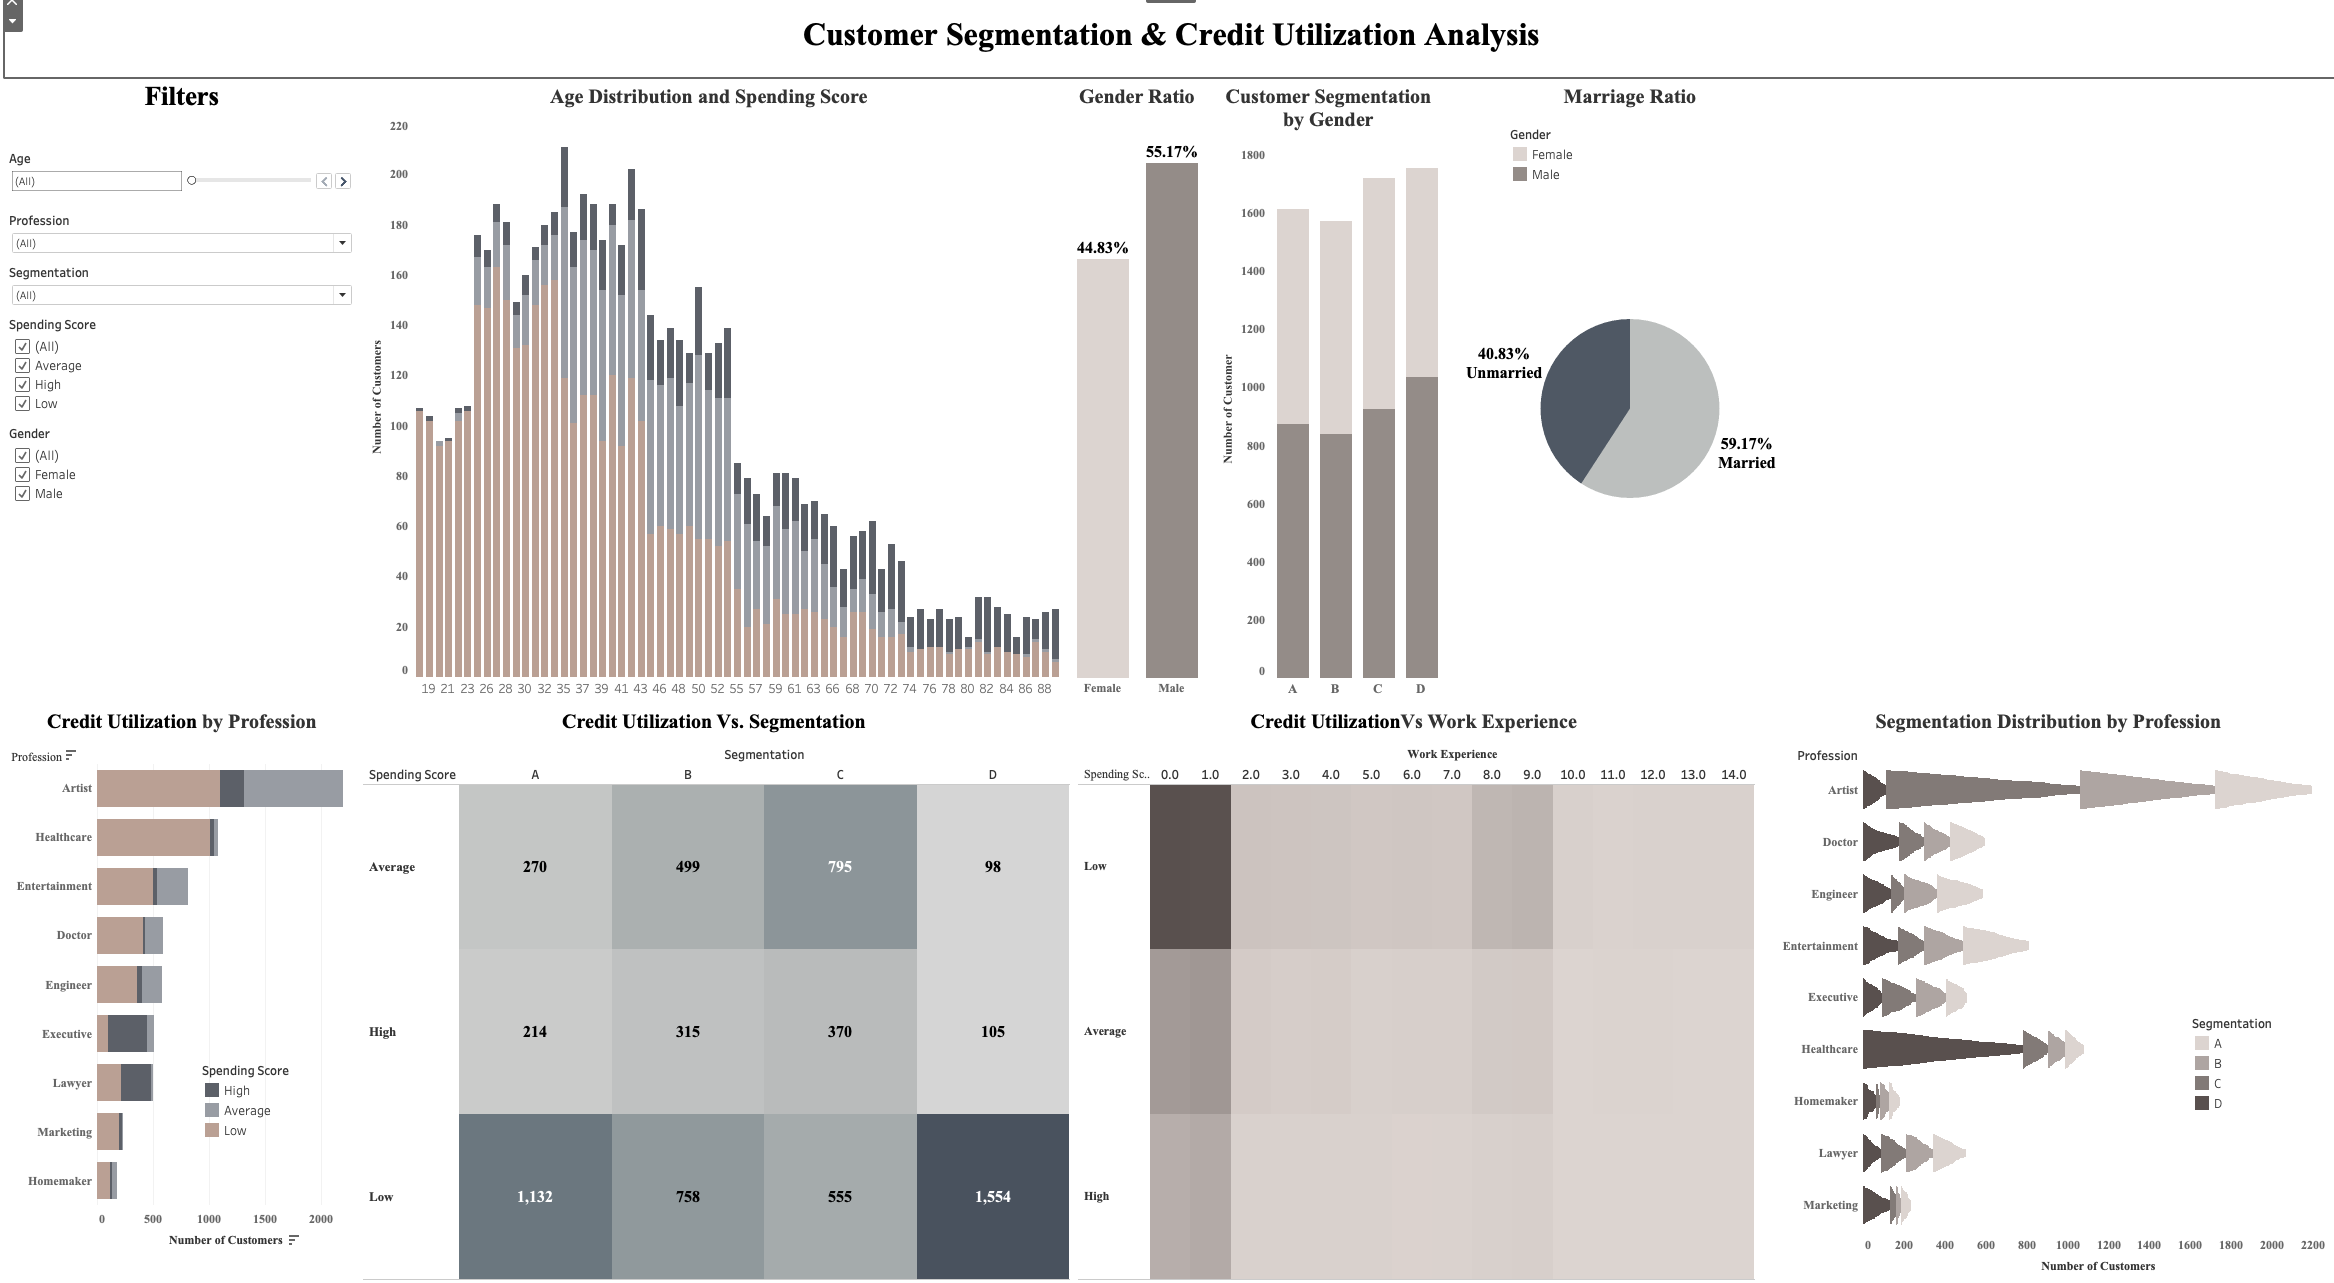

What the dashboard file says about the page in this screenshot:
{"tool":"tableau","page":{"name":"Dashboard 1","canvas":[1000,1000],"units":"permille","ordinal":0},"visuals":[{"type":"text","box":[4.7,9.3,990.6,64.8]},{"type":"text","box":[4.7,74.1,150.4,44]},{"type":"worksheet","title":"1.3 Age Distribution and Spending Score ","mark":"Automatic","rows":["Customer!segmentation_8659F585FC28473984D7BC33D43EBC14"],"cols":["Age"],"box":[155.1,74.1,402,474.5]},{"type":"worksheet","title":"1.1 Gender Ratio","mark":"Automatic","rows":["Customer!segmentation_8659F585FC28473984D7BC33D43EBC14"],"cols":["Gender"],"box":[557.1,74.1,85.4,474.5]},{"type":"worksheet","title":"2.1 customer by segmentaion and gender","mark":"Automatic","rows":["Customer!segmentation_8659F585FC28473984D7BC33D43EBC14"],"cols":["Segmentation"],"box":[642.5,74.1,138.7,474.5]},{"type":"worksheet","title":"1.2 Married Vs Unmarried","mark":"Pie","box":[781.2,74.1,214.2,474.5]},{"type":"legend","title":"1.1 Gender Ratio","param":"[federated.1sno4z51022sau11hy0up1l21c05].[none:Gender:nk]","box":[644.2,108.8,50.3,68.3]},{"type":"filter","title":"1.3 Age Distribution and Spending Score ","param":"[federated.1sno4z51022sau11hy0up1l21c05].[none:Age:nk]","box":[4.7,126.5,150.4,71.8]},{"type":"filter","title":"2.2 Segmentation distribution by profession","param":"[federated.1sno4z51022sau11hy0up1l21c05].[none:Profession:nk]","box":[4.7,198.2,150.4,60.2]},{"type":"filter","title":"2.1 customer by segmentaion and gender","param":"[federated.1sno4z51022sau11hy0up1l21c05].[none:Segmentation:nk]","box":[4.7,258.4,150.4,60.2]},{"type":"filter","title":"3.1 Spending vs Segmentation ","param":"[federated.1sno4z51022sau11hy0up1l21c05].[none:Spending_Score:nk]","box":[4.7,318.6,150.4,126.2]},{"type":"filter","title":"1.1 Gender Ratio","param":"[federated.1sno4z51022sau11hy0up1l21c05].[none:Gender:nk]","box":[4.7,444.8,150.4,103]},{"type":"worksheet","title":"3.2 Spending score by profession ","mark":"Automatic","rows":["Profession"],"cols":["Customer!segmentation_8659F585FC28473984D7BC33D43EBC14"],"box":[4.7,548.6,150.4,442.1]},{"type":"worksheet","title":"3.1 Spending vs Segmentation ","mark":"Square","rows":["Spending_Score"],"cols":["Segmentation"],"box":[155.1,548.6,303.7,442.1]},{"type":"worksheet","title":"3.3 Spending Score Vs Work Experience ","mark":"Automatic","rows":["Spending_Score"],"cols":["Work_Experience"],"box":[458.8,548.6,290.8,442.1]},{"type":"worksheet","title":"2.2 Segmentation distribution by profession","mark":"Automatic","rows":["Profession"],"cols":["Customer!segmentation_8659F585FC28473984D7BC33D43EBC14"],"box":[749.6,548.6,245.8,442.1]},{"type":"legend","title":"2.2 Segmentation distribution by profession","param":"[federated.1sno4z51022sau11hy0up1l21c05].[none:Segmentation:nk]","box":[934.5,788.2,55,114.6]},{"type":"legend","title":"1.3 Age Distribution and Spending Score ","param":"[federated.1sno4z51022sau11hy0up1l21c05].[none:Spending_Score:nk]","box":[87.2,824.1,83.7,100.7]}]}

Visuals, with their boxes on the dashboard's canvas, which has no fixed pixel size, in thousandths of its width and height (x1, y1, x2, y2). These are canvas units, not pixel positions in the 2334x1283 screenshot, which may show the page scaled, cropped or inside an application window:
text: rect(5, 9, 995, 74)
text: rect(5, 74, 155, 118)
"1.3 Age Distribution and Spending Score " worksheet: rect(155, 74, 557, 549)
"1.1 Gender Ratio" worksheet: rect(557, 74, 642, 549)
"2.1 customer by segmentaion and gender" worksheet: rect(642, 74, 781, 549)
"1.2 Married Vs Unmarried" worksheet (Pie marks): rect(781, 74, 995, 549)
"1.1 Gender Ratio" legend: rect(644, 109, 694, 177)
"1.3 Age Distribution and Spending Score " filter: rect(5, 126, 155, 198)
"2.2 Segmentation distribution by profession" filter: rect(5, 198, 155, 258)
"2.1 customer by segmentaion and gender" filter: rect(5, 258, 155, 319)
"3.1 Spending vs Segmentation " filter: rect(5, 319, 155, 445)
"1.1 Gender Ratio" filter: rect(5, 445, 155, 548)
"3.2 Spending score by profession " worksheet: rect(5, 549, 155, 991)
"3.1 Spending vs Segmentation " worksheet (Square marks): rect(155, 549, 459, 991)
"3.3 Spending Score Vs Work Experience " worksheet: rect(459, 549, 750, 991)
"2.2 Segmentation distribution by profession" worksheet: rect(750, 549, 995, 991)
"2.2 Segmentation distribution by profession" legend: rect(934, 788, 990, 903)
"1.3 Age Distribution and Spending Score " legend: rect(87, 824, 171, 925)
